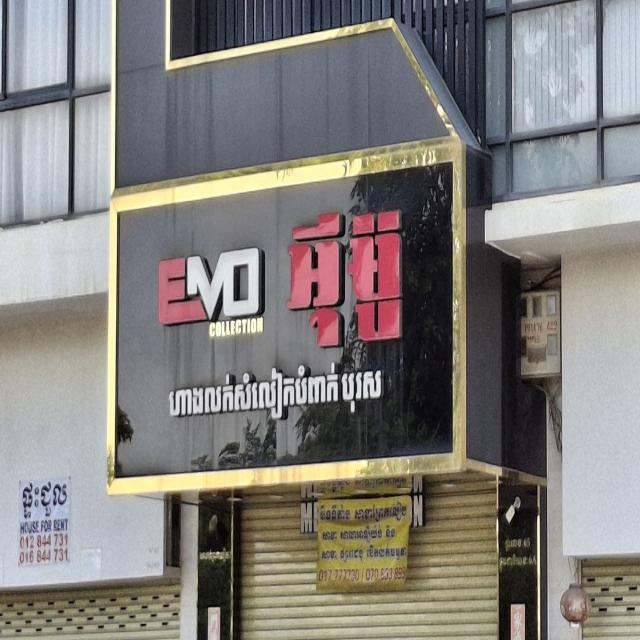Yolov11_80vkh: (274, 194, 424, 357), (154, 355, 398, 444), (8, 464, 83, 525)
